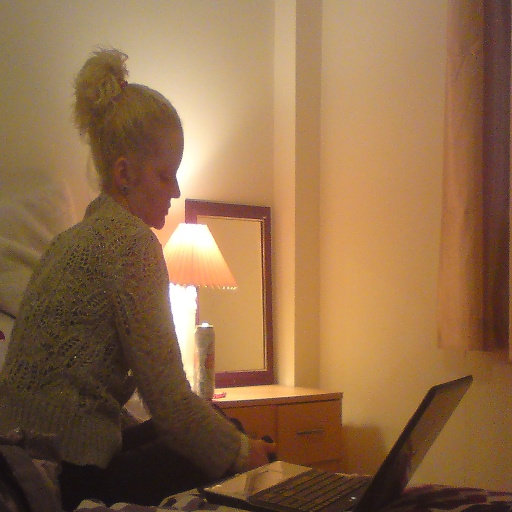hand: (248, 440, 275, 469)
